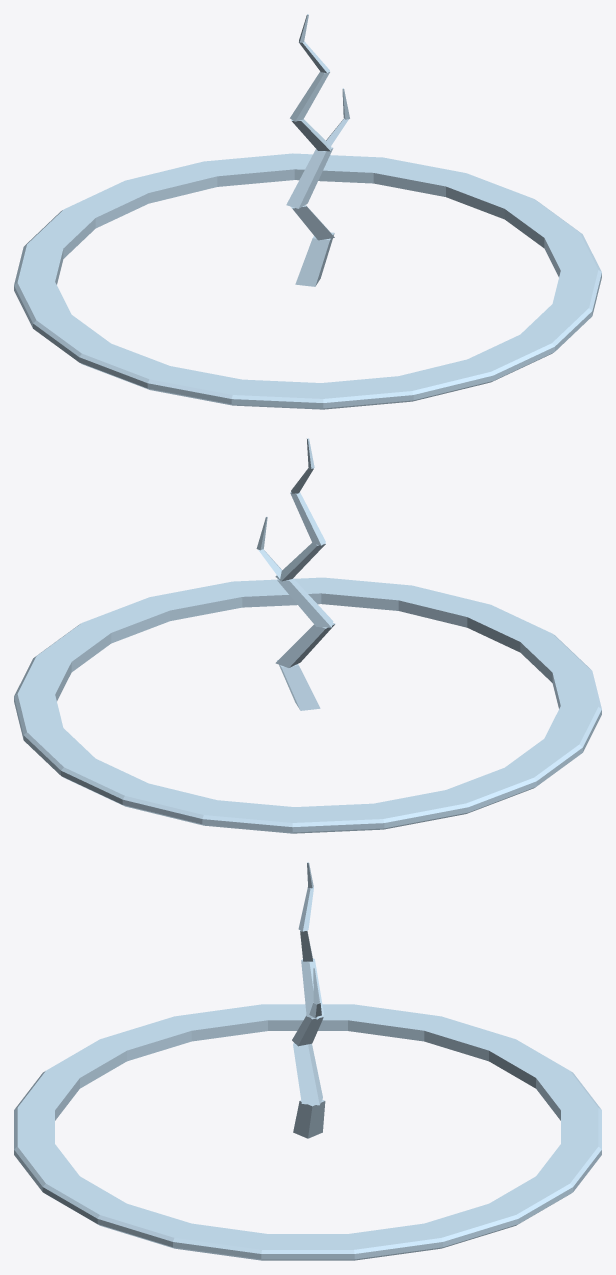
Rendered from ShockVFX.fbx.
3 views of the same model, one above another, from view 1: azimuth 30°, elevation 25°; view 2: azimuth 150°, elevation 25°; view 3: azimuth 270°, elevation 25° (orthographic).
Parts seen in each view (by area): view 1: Ring, Bolt; view 2: Ring, Bolt; view 3: Ring, Bolt.
Boxes of the visible parts, <box> form: Ring: <box>14,153,601,409</box>; Bolt: <box>286,14,349,286</box>; Ring: <box>14,577,601,833</box>; Bolt: <box>256,438,335,710</box>; Ring: <box>14,1004,601,1260</box>; Bolt: <box>292,862,325,1138</box>.
Size of the model in its own units: 1.98 by 1.02 by 1.98.
